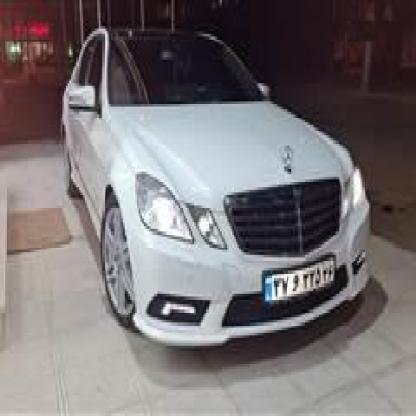Car: (48, 24, 379, 366)
